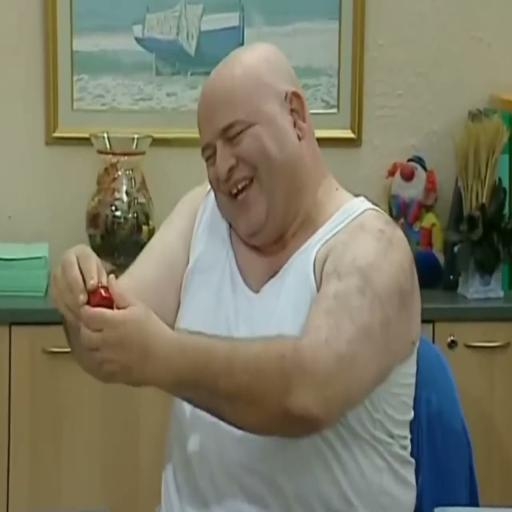sboui: (198, 43, 325, 247)
